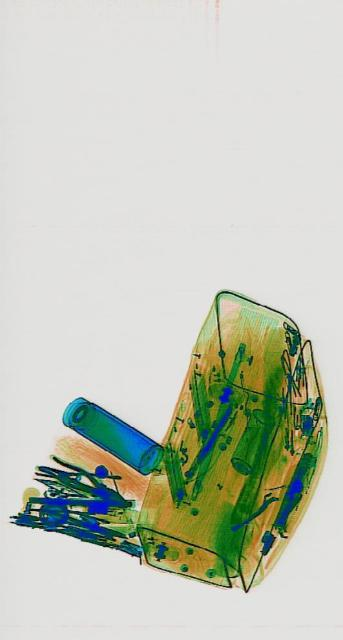Pliers: (47, 452, 133, 518)
